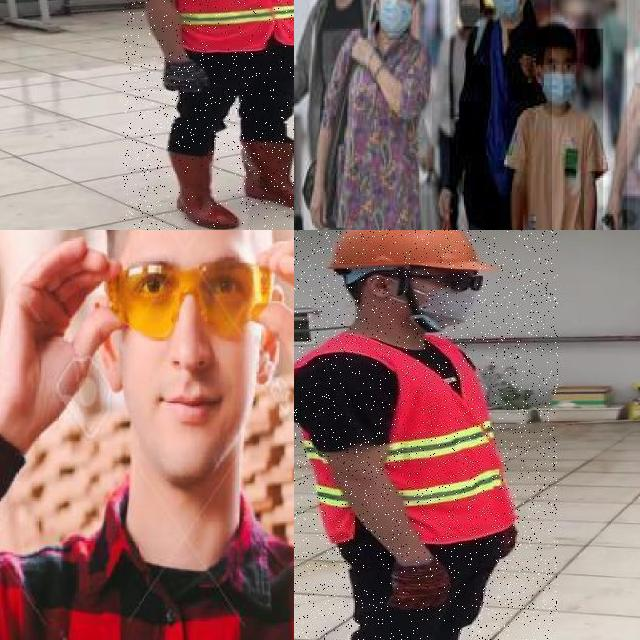No_Ear-Protection: (363, 271, 394, 303)
boots: (164, 148, 242, 230), (238, 137, 294, 213)
face_mask: (541, 51, 574, 106), (376, 0, 413, 35), (457, 0, 481, 29), (491, 0, 523, 17)
face_nomask: (132, 260, 259, 434)
glasses: (110, 255, 278, 347)
hand_noglove: (0, 238, 125, 412), (245, 230, 294, 421), (599, 181, 628, 229), (434, 182, 462, 225), (307, 187, 331, 230)
head_helmet: (308, 230, 493, 278)
head_nohelmet: (534, 26, 580, 65)
person: (0, 230, 294, 640), (294, 230, 558, 640), (123, 0, 294, 230), (310, 0, 428, 230), (449, 0, 552, 230), (507, 28, 604, 230)
vest: (294, 331, 513, 542), (148, 0, 294, 54)
